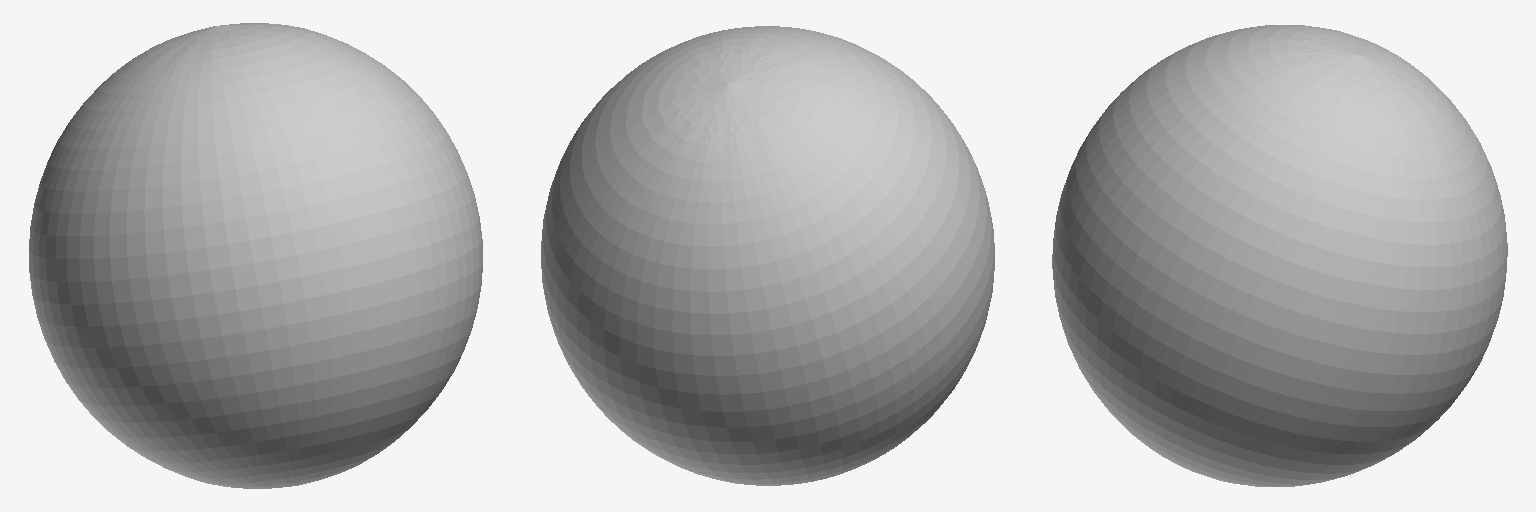
The model's file is ball15.obj.
3 views of the same model, side by side, from view 1: azimuth 30°, elevation 25°; view 2: azimuth 150°, elevation 25°; view 3: azimuth 270°, elevation 25° (orthographic).
Parts seen in each view (by area): view 1: Sphere01.003; view 2: Sphere01.003; view 3: Sphere01.003.
Boxes of the visible parts, x1=… form: Sphere01.003: x1=29, y1=23, x2=482, y2=488; Sphere01.003: x1=541, y1=26, x2=994, y2=485; Sphere01.003: x1=1052, y1=25, x2=1507, y2=486.
Bounding box in the file's own units: 5.45 × 5.58 × 5.46.